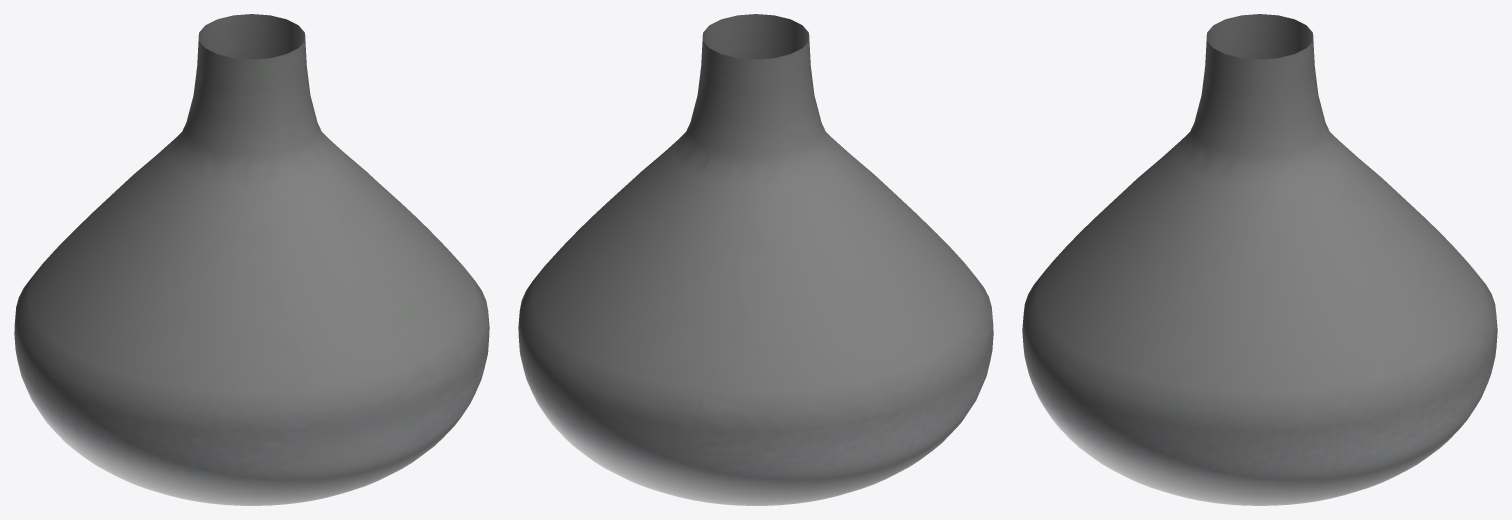
Rendered from LightSpecular.DAE.
3 renders of one model, left to right at view 1: azimuth 30°, elevation 25°; view 2: azimuth 150°, elevation 25°; view 3: azimuth 270°, elevation 25°, orthographic.
Parts seen in each view (by area): view 1: Bulb_PIVOT; view 2: Bulb_PIVOT; view 3: Bulb_PIVOT.
Boxes of the visible parts, bbox=[...] form: Bulb_PIVOT: bbox=[14, 14, 489, 505]; Bulb_PIVOT: bbox=[518, 14, 993, 505]; Bulb_PIVOT: bbox=[1022, 14, 1497, 505].
Size of the model in its own units: 0.6569 by 0.6569 by 0.6619.
Materials: 1 (1 with a texture image).
